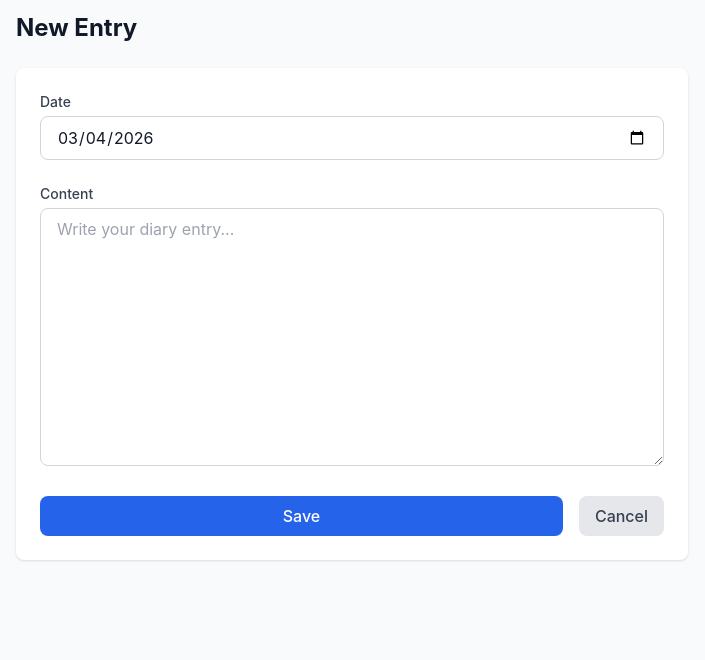
Scenario: EntryCreatePage › shows error message on creation failure
The image size is (705, 660).
Type "New entry" into the text box labelled "Content" at (352, 337), box [40,208,664,466]
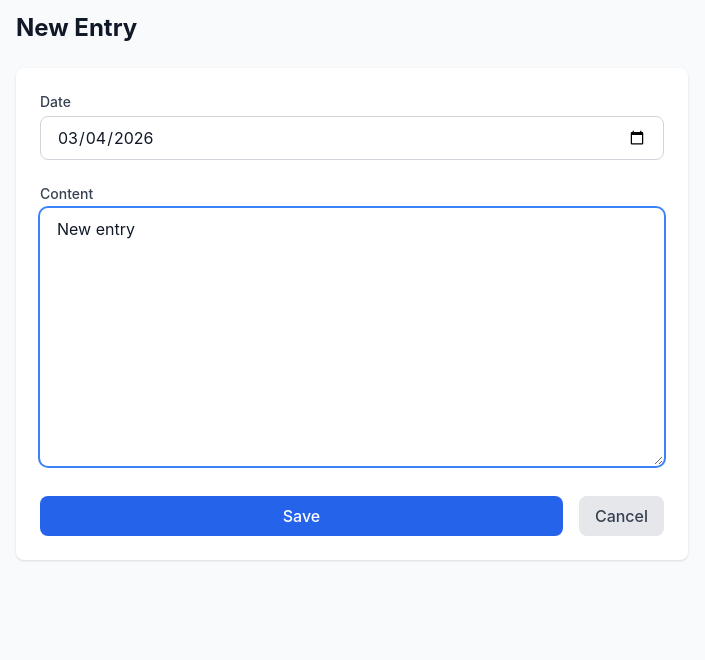
Click the button "Save" at (301, 516), box [40,496,563,536]
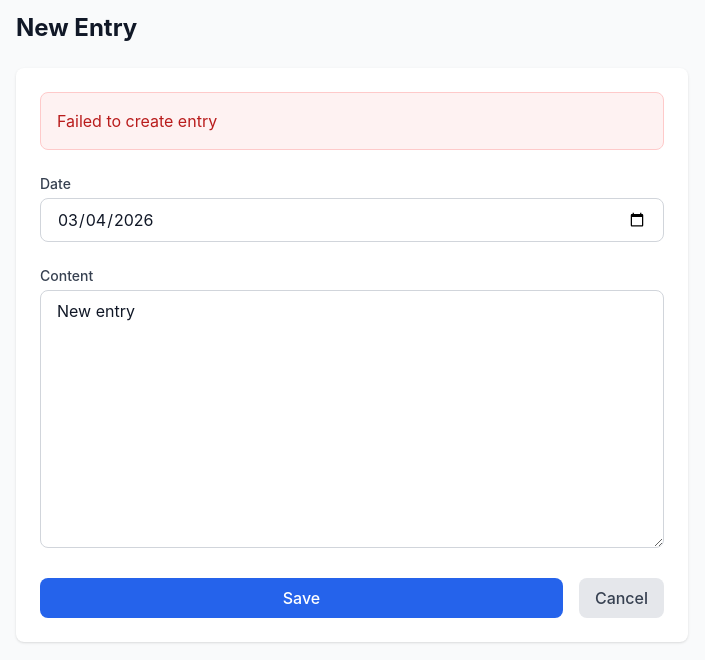
Expected: the text "Failed to create entry" is shown, [40,92,664,150]
